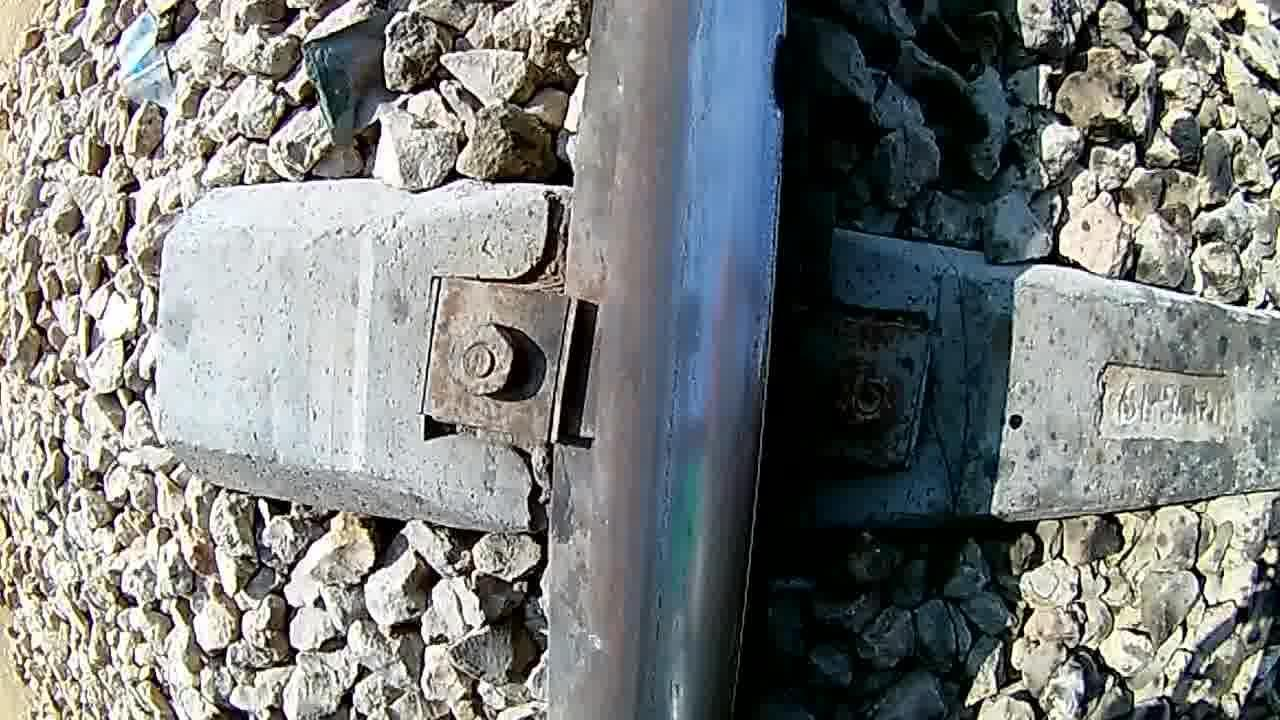crack: (590, 0, 770, 720)
